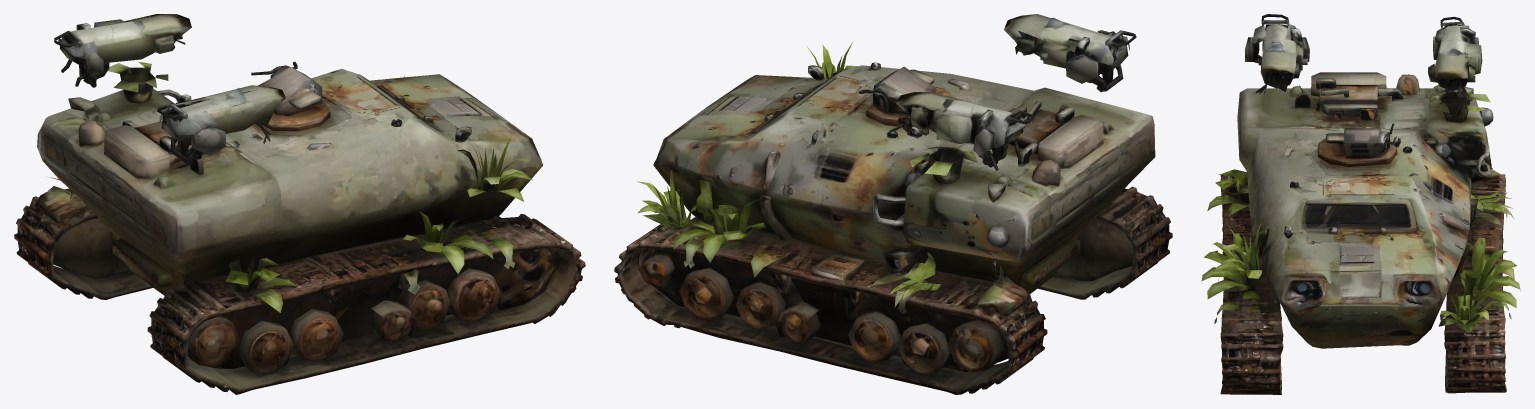
File: vehicle-crawler.glb
3 renders of one model, left to right at view 1: azimuth 30°, elevation 25°; view 2: azimuth 150°, elevation 25°; view 3: azimuth 270°, elevation 25°, orthographic. The views are drawn at different scales.
Parts seen in each view (by area): view 1: vehicle-crawler; view 2: vehicle-crawler; view 3: vehicle-crawler.
Boxes of the visible parts, x1=… form: vehicle-crawler: x1=14, y1=14, x2=585, y2=394; vehicle-crawler: x1=614, y1=14, x2=1172, y2=394; vehicle-crawler: x1=1201, y1=14, x2=1520, y2=394.
Bounding box in the file's own units: 0.9995 × 0.6401 × 0.7808.
Materials: 1 (1 with a texture image).
